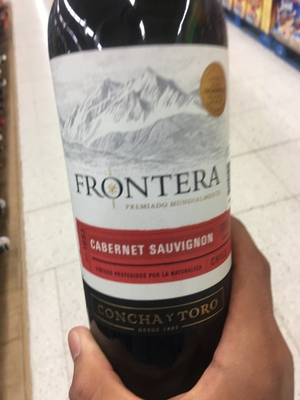frontera cabernet sauvignon: (43, 3, 265, 353)
